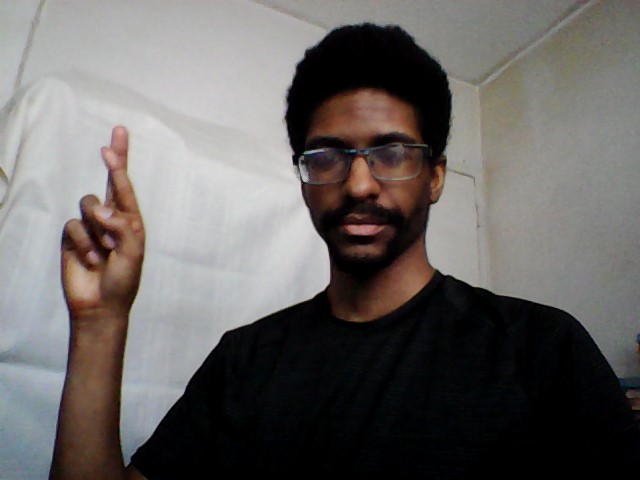r: (55, 121, 152, 320)
